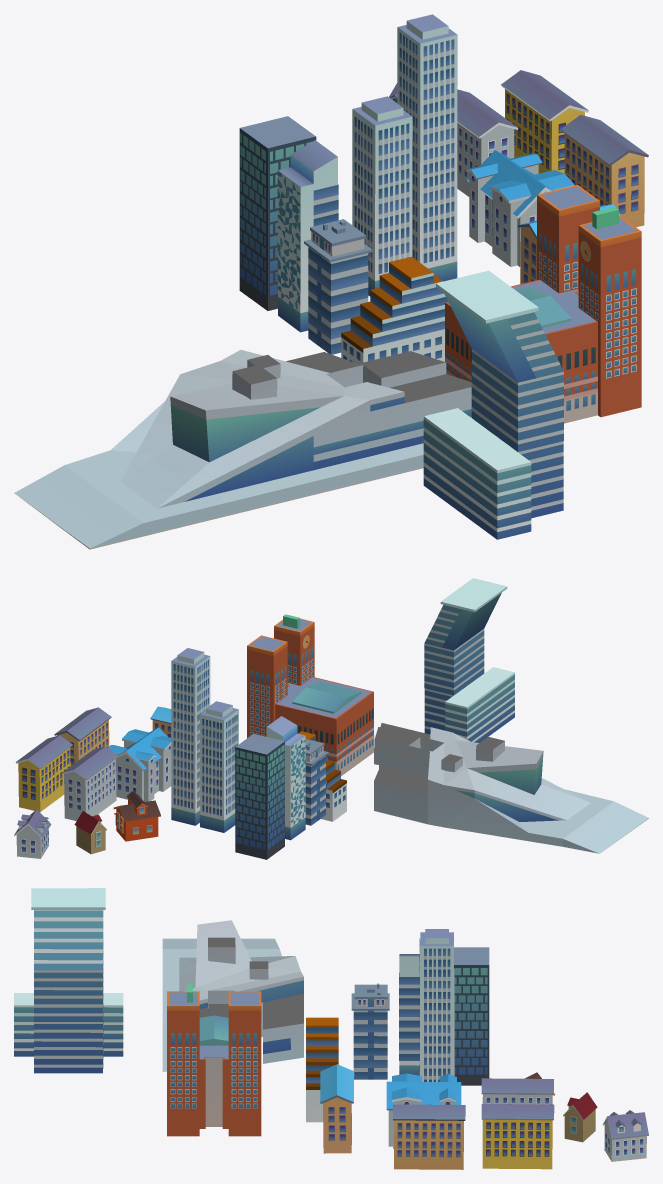
File: Oslo.fbx
The picture shows the model from 3 angles, top to bottom: view 1: azimuth 30°, elevation 25°; view 2: azimuth 150°, elevation 25°; view 3: azimuth 270°, elevation 25°; orthographic projection. The views are drawn at different scales.
Parts seen in each view (by area): view 1: Oslo; view 2: Oslo; view 3: Oslo.
Part boxes in pixels (<box>): Oslo: <box>14,14,648,549</box>; Oslo: <box>14,578,648,859</box>; Oslo: <box>14,888,648,1169</box>.
Size of the model in its own units: 3.41 by 1.24 by 3.54.
Materials: 1 (1 with a texture image).
